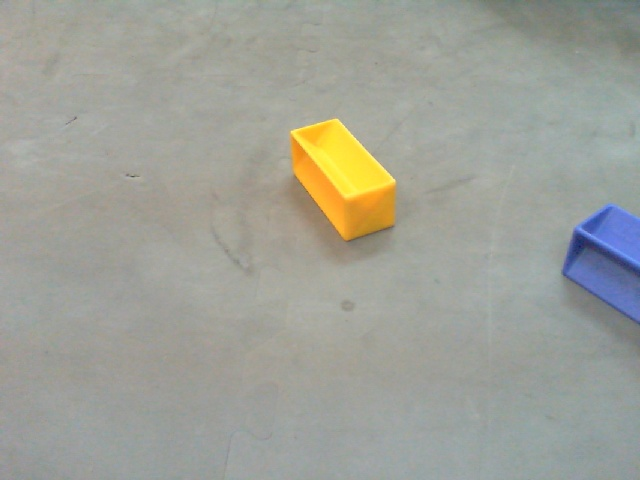BlueSample: (559, 196, 640, 331)
YellowSample: (284, 116, 404, 248)
